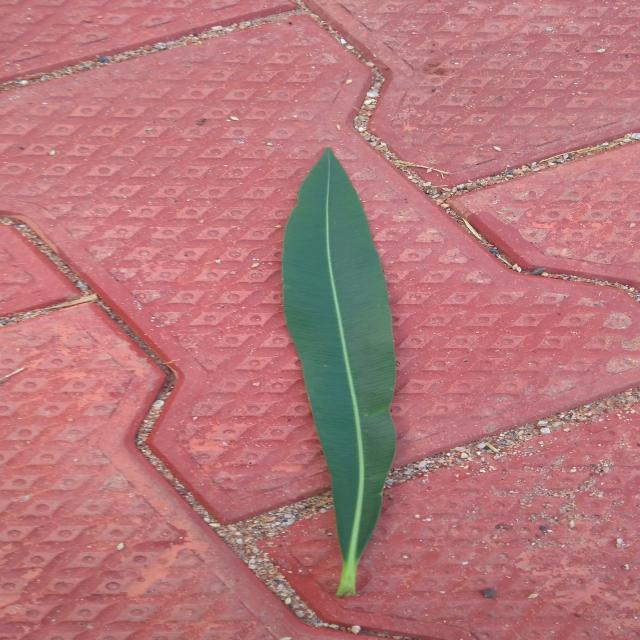ganigale: (282, 148, 396, 598)
